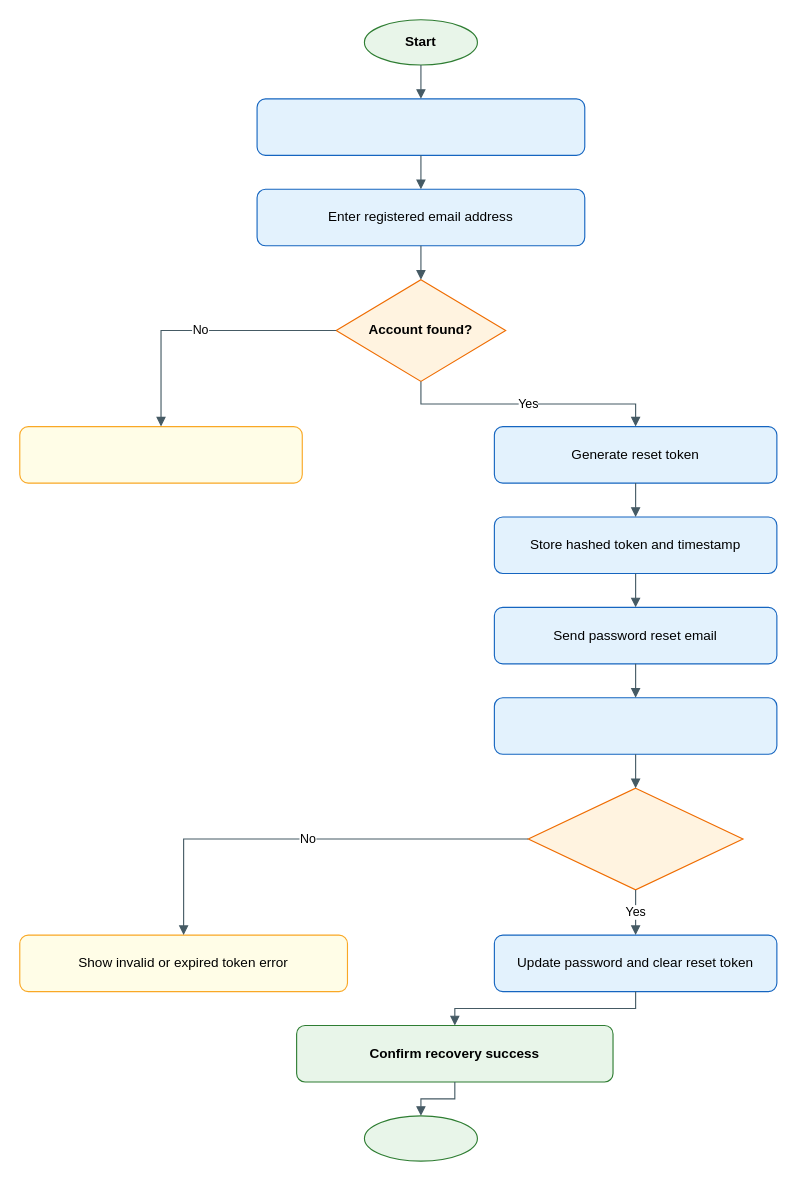
The diagram is 797 pixels wide and 1181 high, and some of its shapes have lost their labels. The shapes that lost their labels are listed below. From the top down, each one's centre as x and y in pixels, then its label:
point (420, 126): Open forgot password page
point (160, 454): Show generic recovery error
point (635, 725): Open reset link and enter new password
point (635, 838): Token valid and not expired?
point (420, 1138): End
